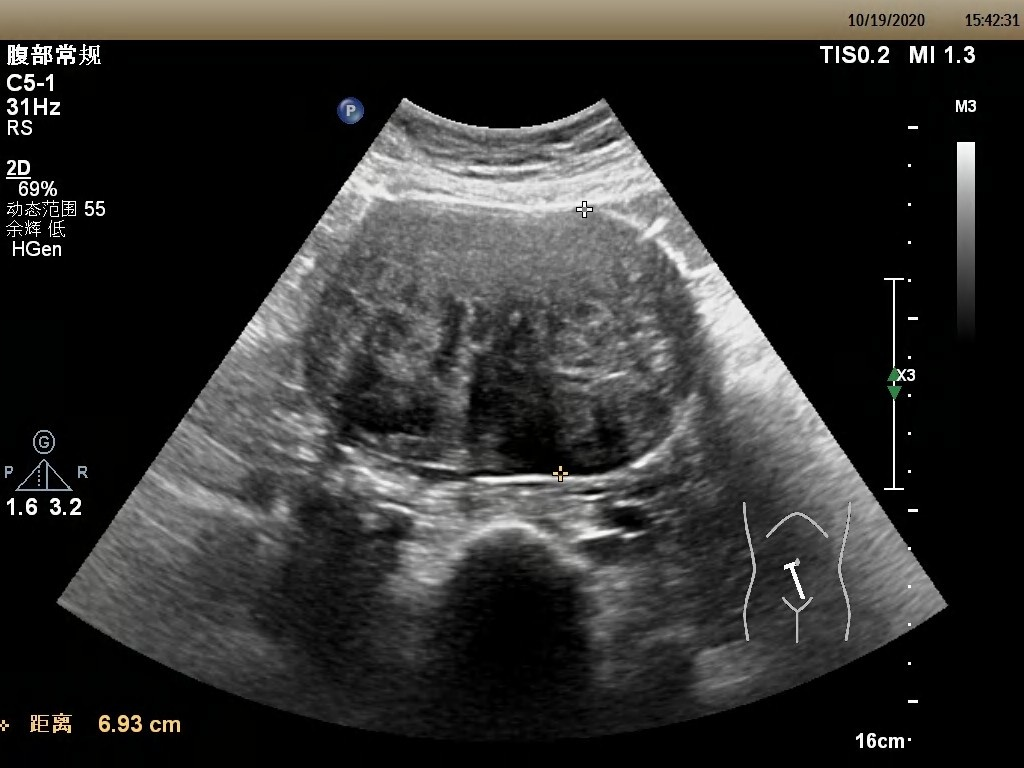肌瘤: (307, 206, 701, 482)
